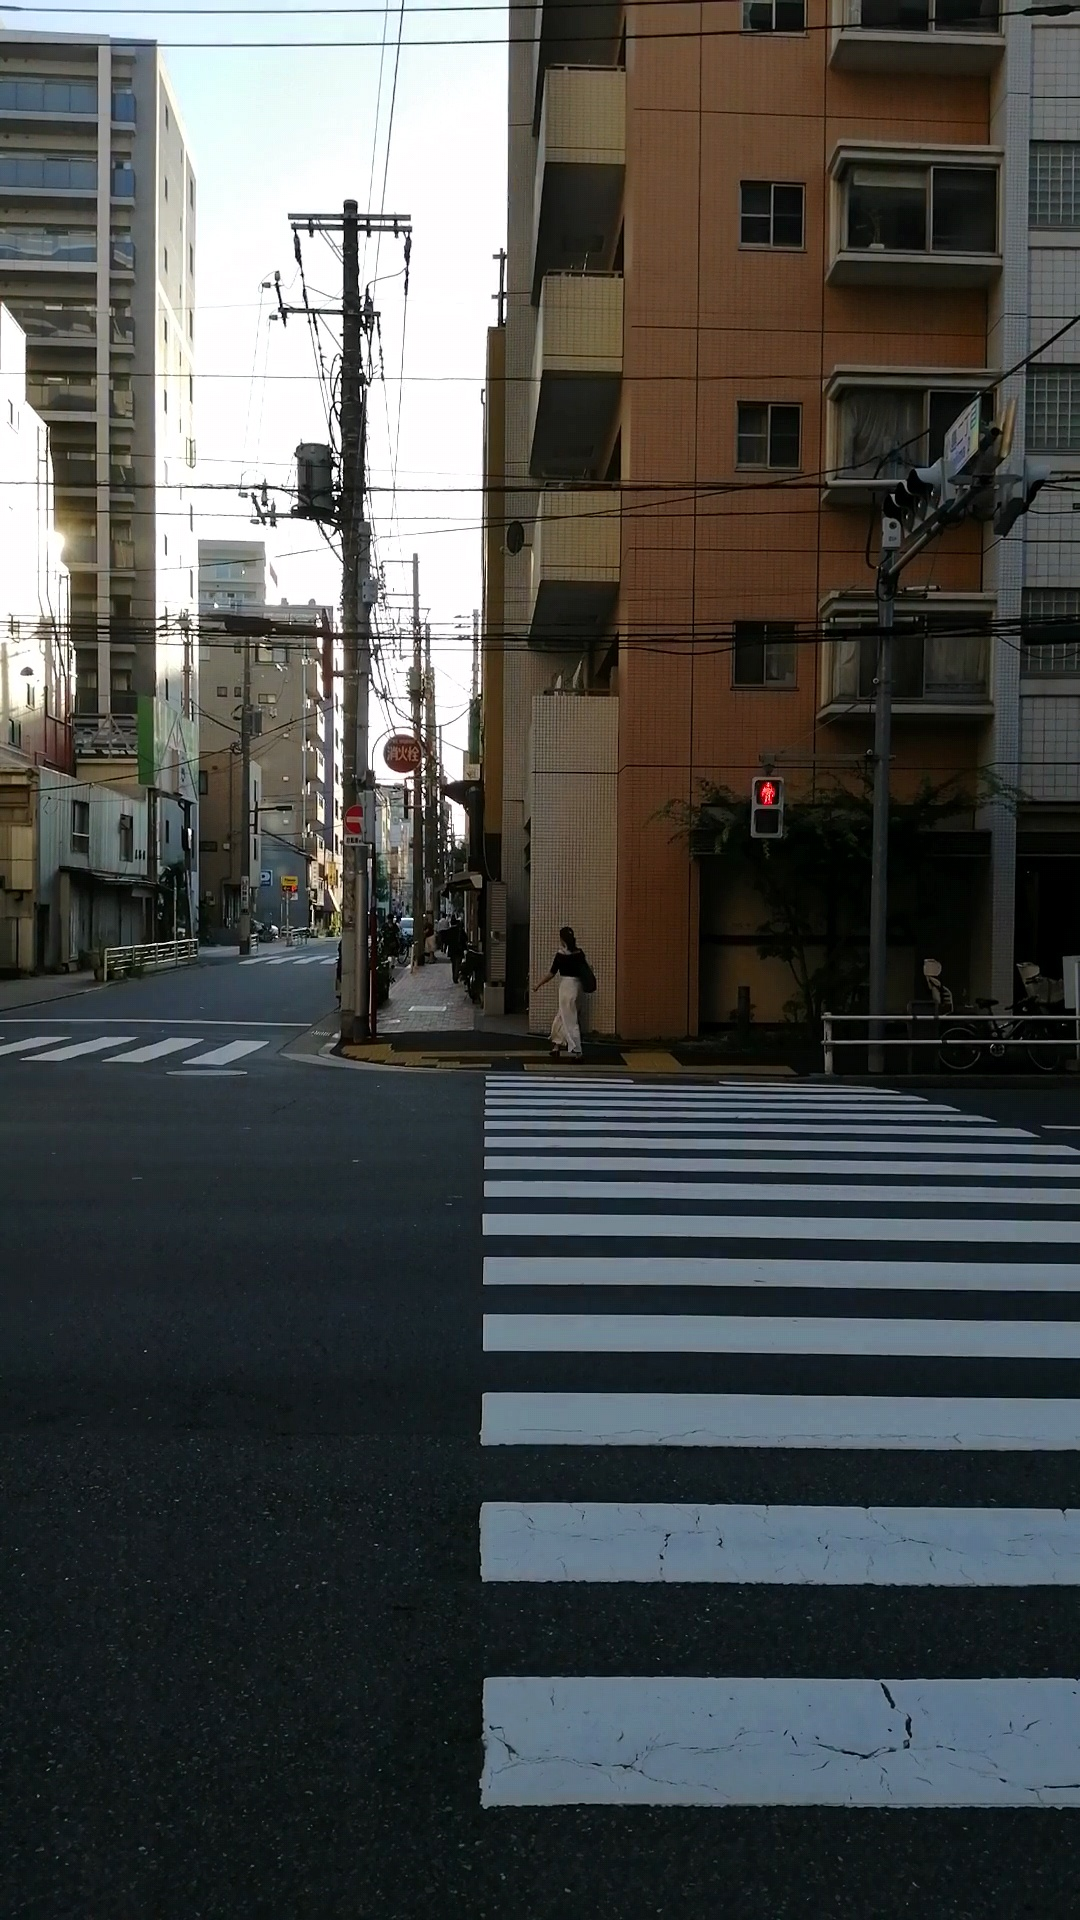red: (750, 774, 785, 840)
